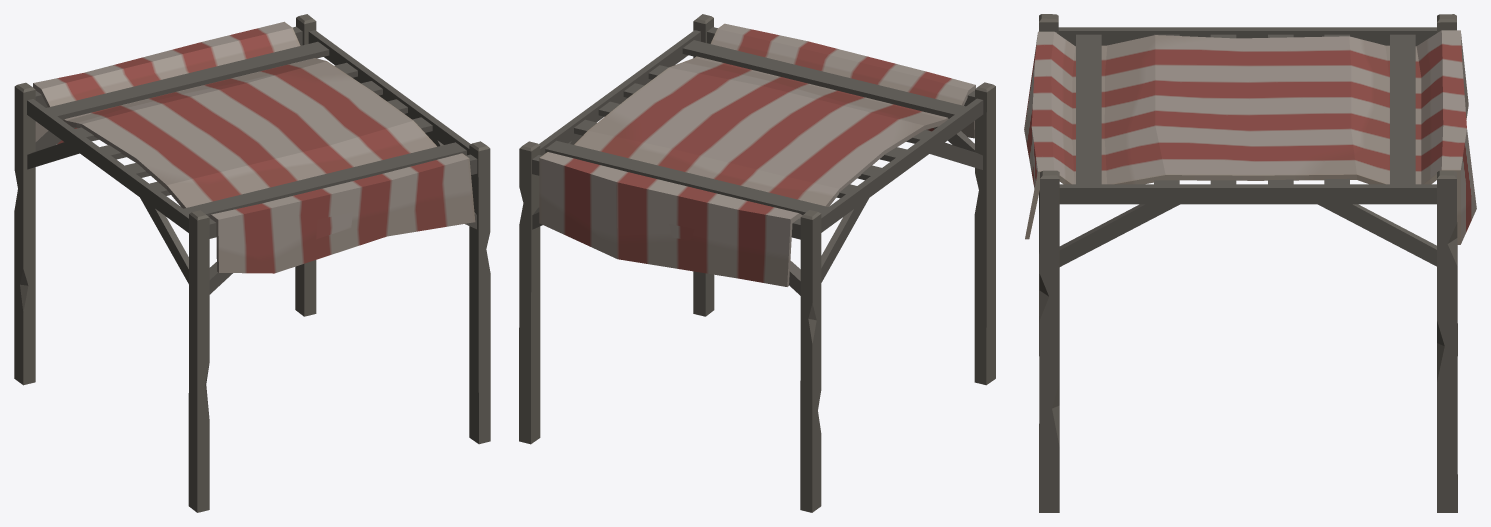
Rendered from SM_Bld_Village_ClothCover_Large_02.fbx.
3 views of the same model, side by side, from view 1: azimuth 30°, elevation 25°; view 2: azimuth 150°, elevation 25°; view 3: azimuth 270°, elevation 25° (orthographic). The views are drawn at different scales.
Visible parts, largest first — view 1: SM_Bld_Village_ClothCover_Large_Cloth_02, SM_Bld_Village_ClothCover_Large_02; view 2: SM_Bld_Village_ClothCover_Large_Cloth_02, SM_Bld_Village_ClothCover_Large_02; view 3: SM_Bld_Village_ClothCover_Large_Cloth_02, SM_Bld_Village_ClothCover_Large_02.
Boxes of the visible parts, box(x1,y1,x2,y2) form: SM_Bld_Village_ClothCover_Large_Cloth_02: box(33, 21, 475, 273); SM_Bld_Village_ClothCover_Large_02: box(14, 14, 490, 512); SM_Bld_Village_ClothCover_Large_Cloth_02: box(539, 23, 975, 286); SM_Bld_Village_ClothCover_Large_02: box(519, 14, 995, 512); SM_Bld_Village_ClothCover_Large_Cloth_02: box(1024, 30, 1476, 244); SM_Bld_Village_ClothCover_Large_02: box(1039, 14, 1457, 512).
Bounding box in the file's own units: 417 × 400 × 488.
